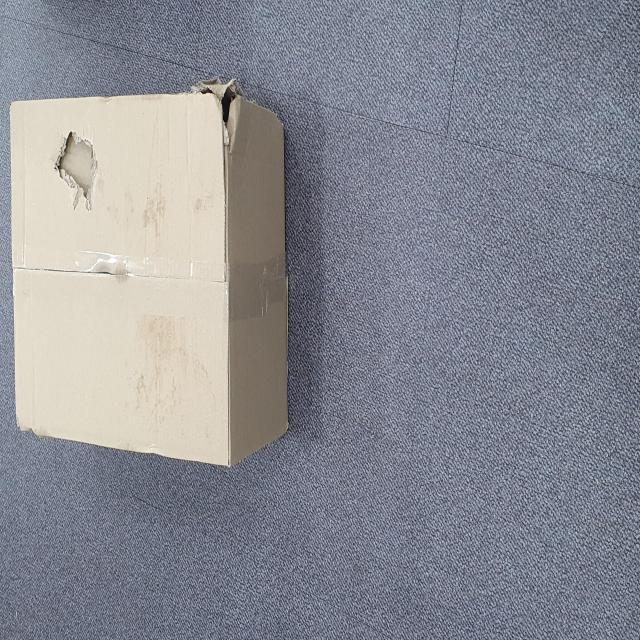damaged: (241, 92, 289, 183), (270, 348, 316, 438)
